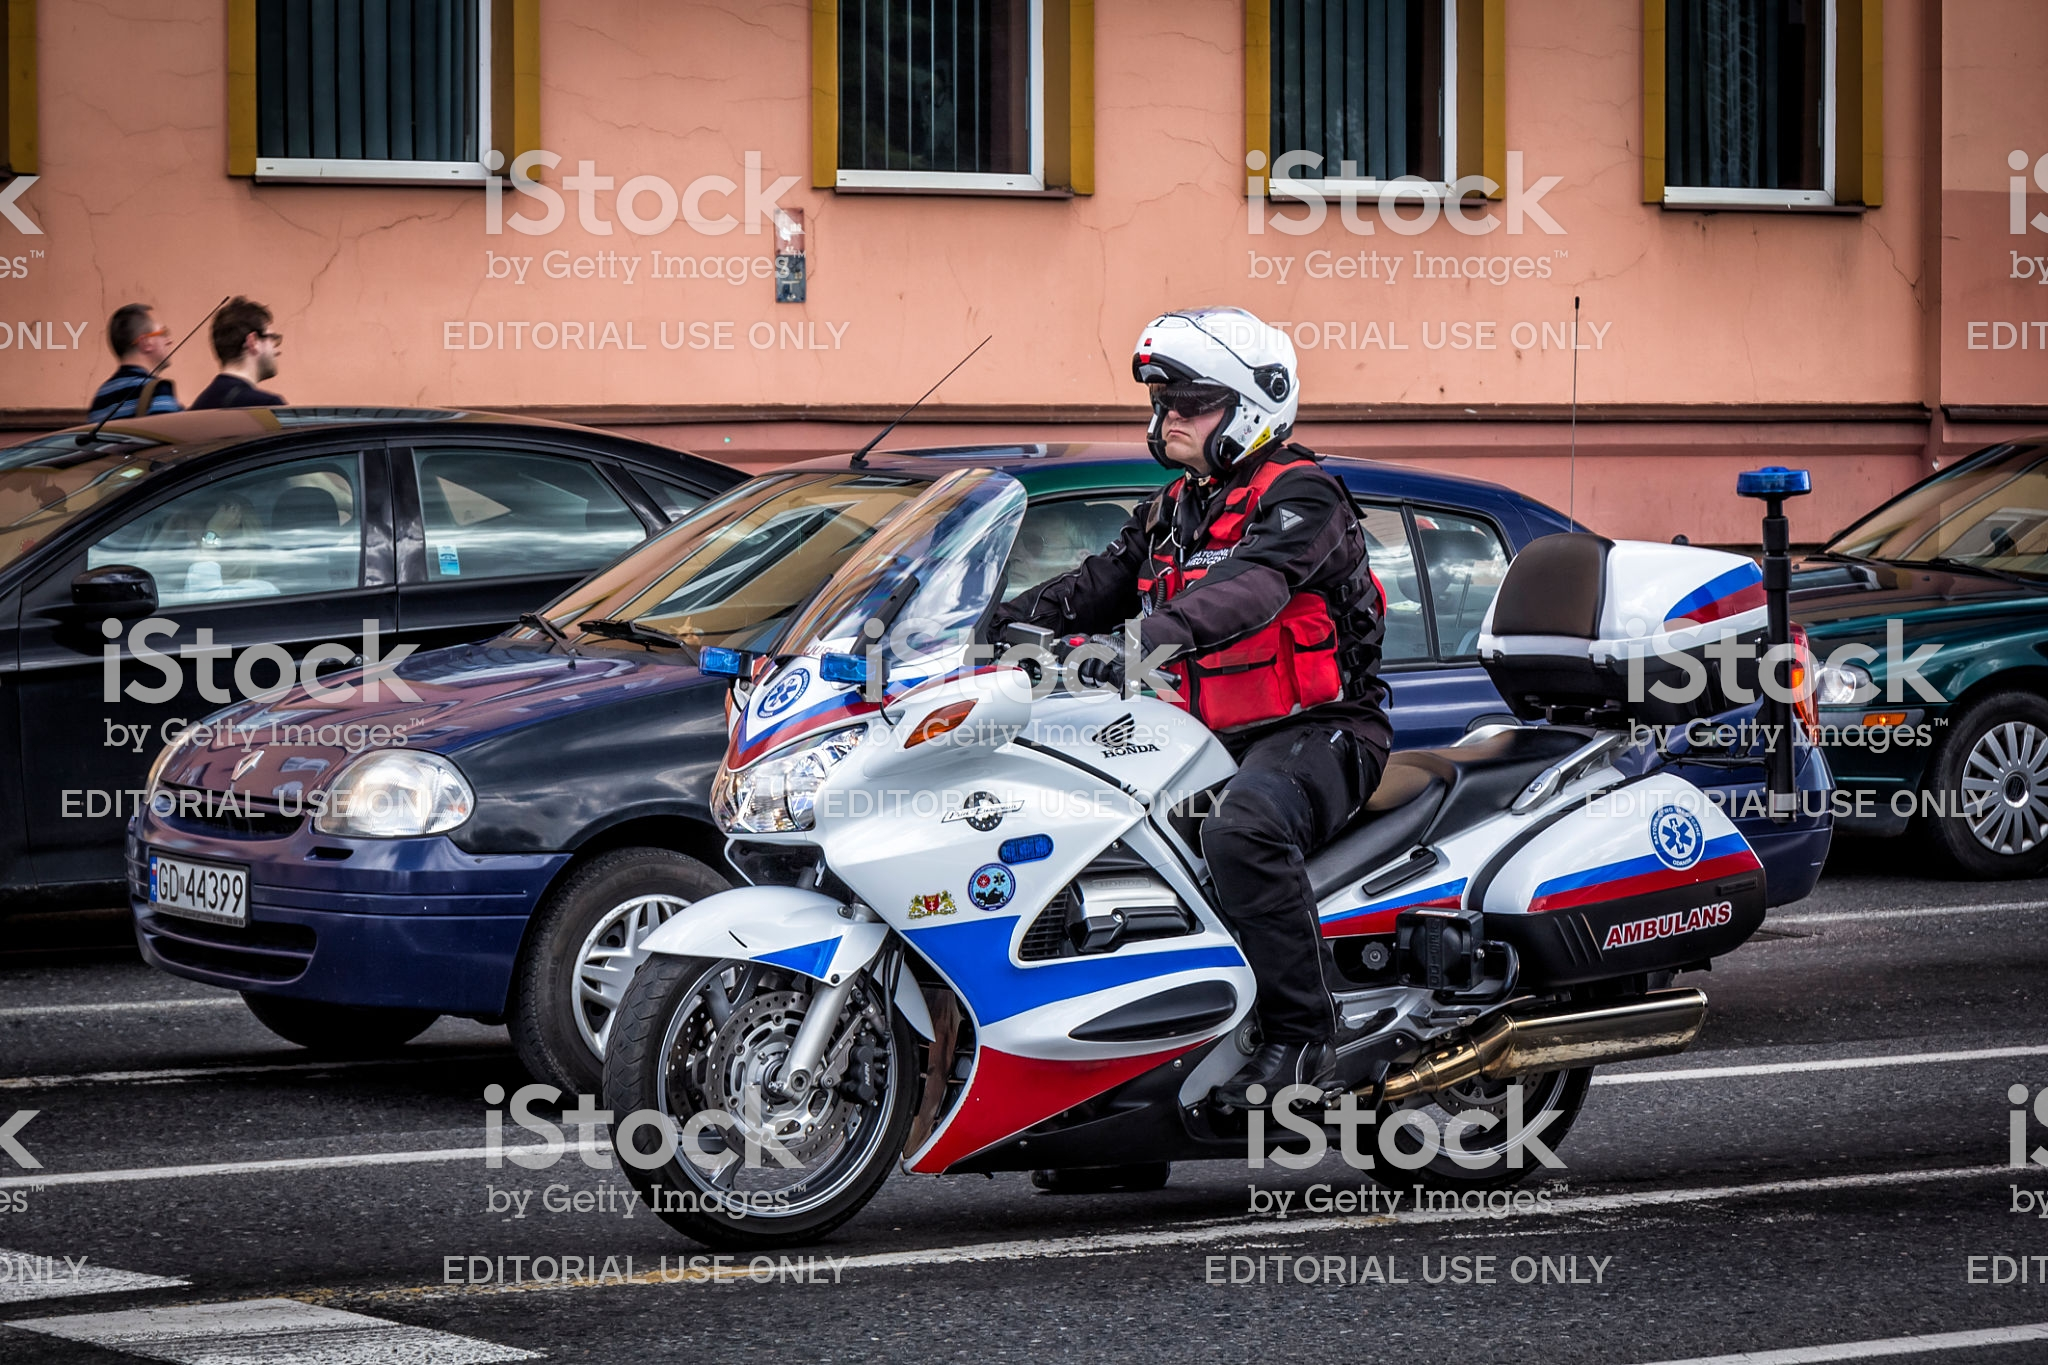helmet: (1137, 292, 1341, 443)
